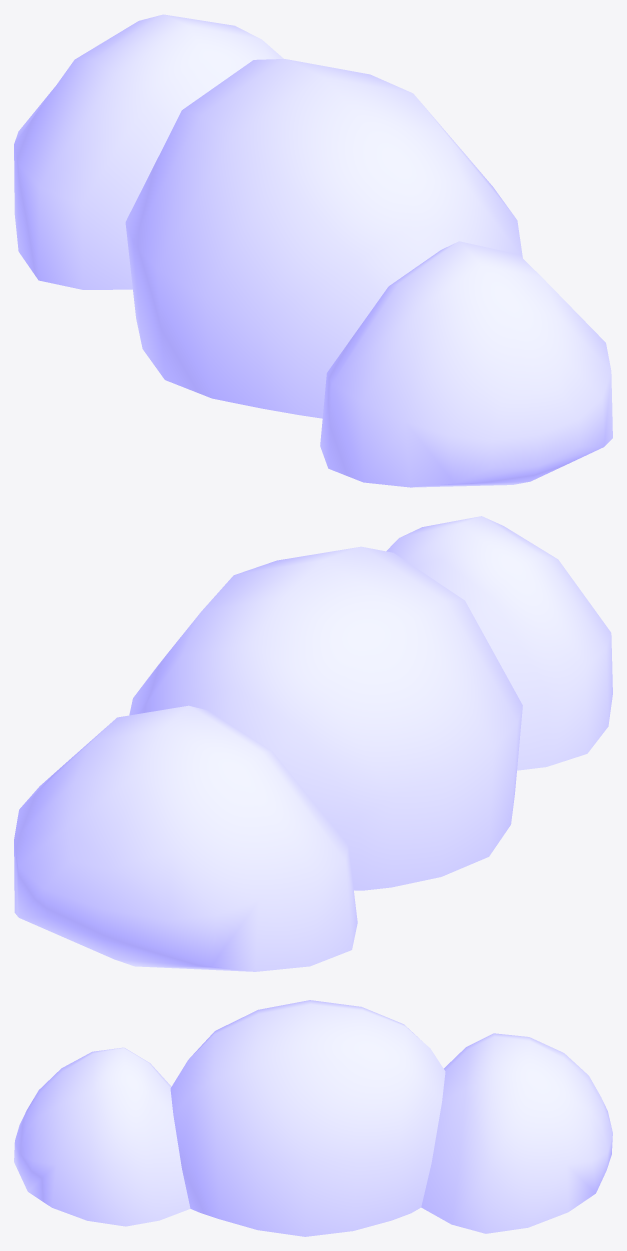
Rendered from Cloud01.fbx.
The picture shows the model from 3 angles, top to bottom: view 1: azimuth 30°, elevation 25°; view 2: azimuth 150°, elevation 25°; view 3: azimuth 270°, elevation 25°; orthographic projection. The views are drawn at different scales.
Visible parts, largest first — view 1: Cloud01; view 2: Cloud01; view 3: Cloud01.
Part boxes in pixels (x1,y1,x2,y2): Cloud01: (14,14,612,487); Cloud01: (14,516,612,971); Cloud01: (14,1000,612,1236).
Bounding box in the file's own units: 304 × 257 × 685.
